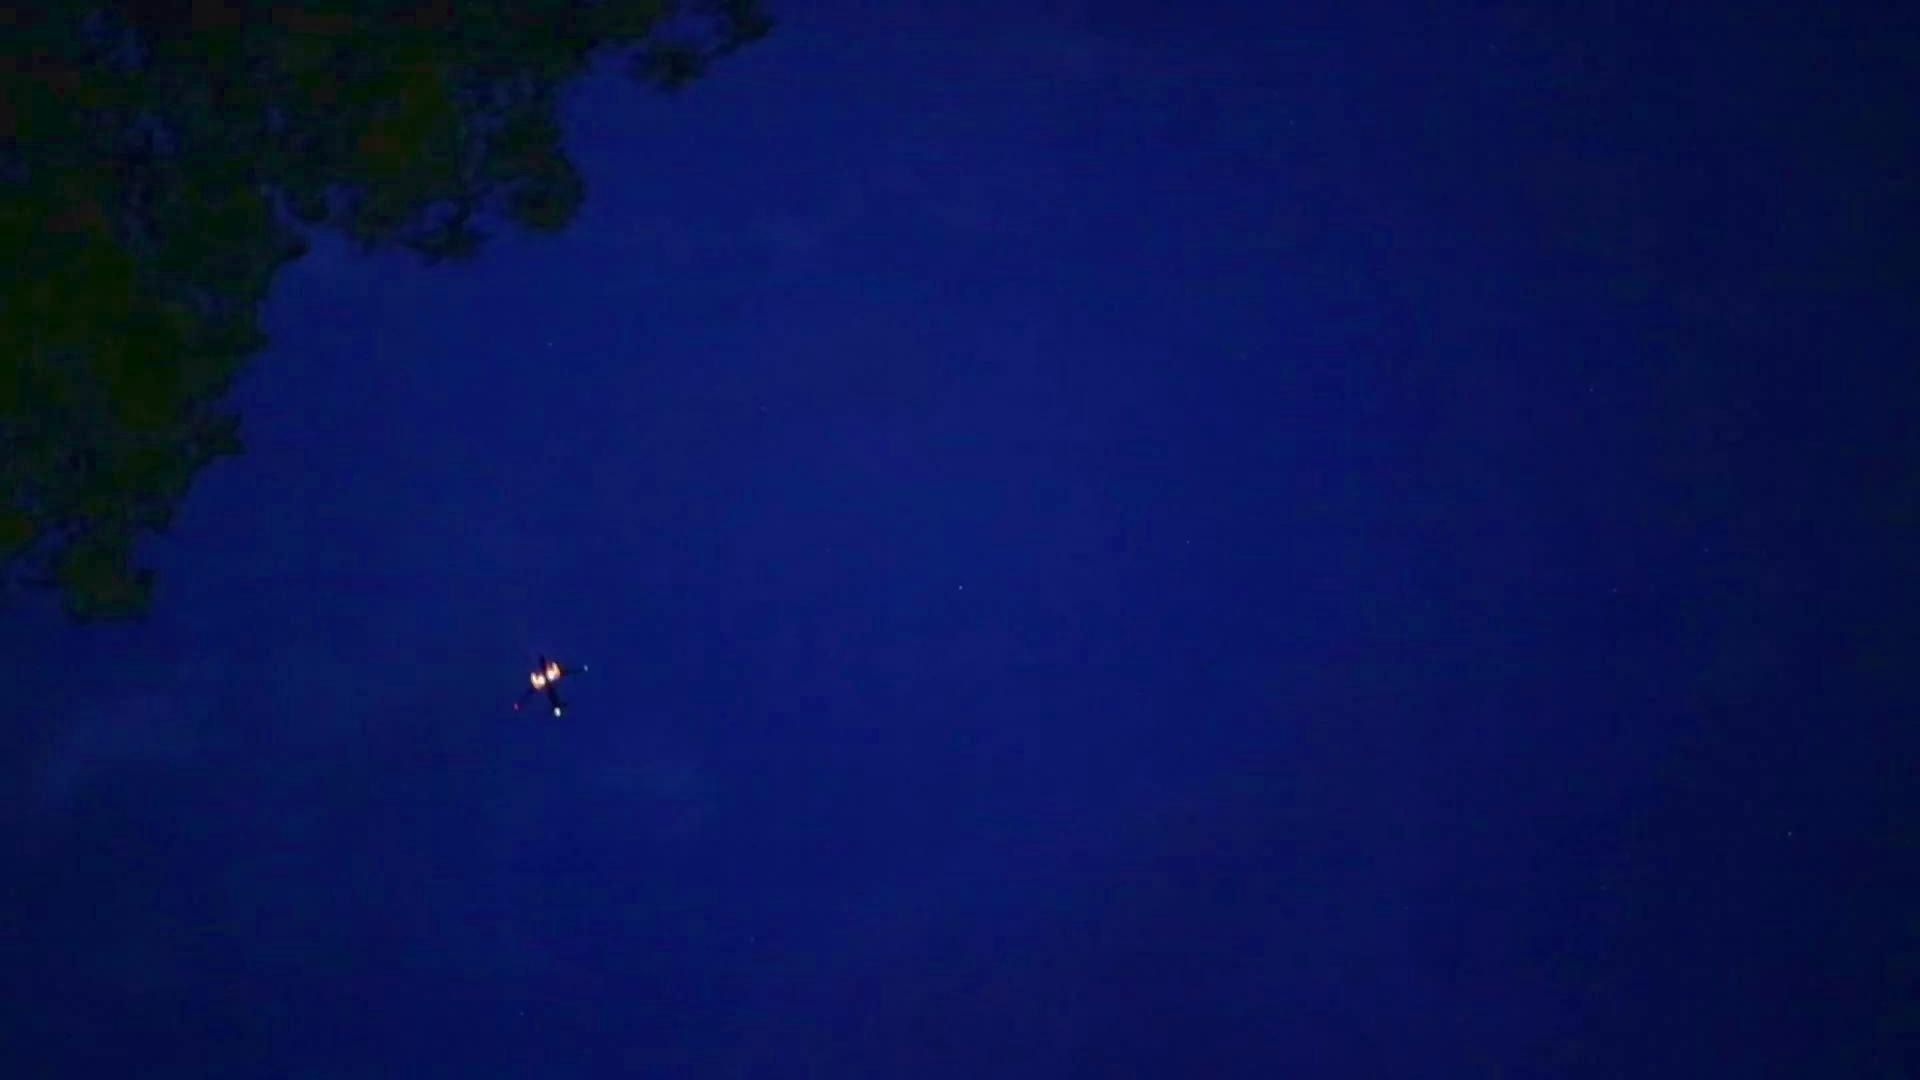Plane: (473, 642, 625, 711)
